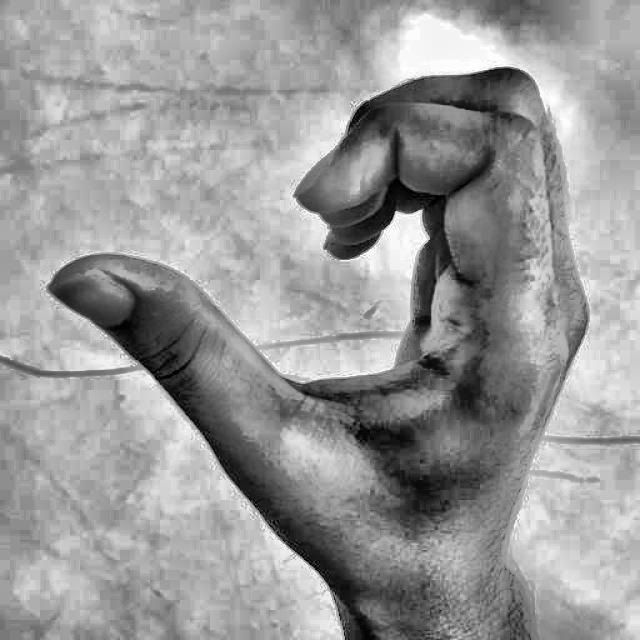Kha: (26, 22, 612, 614)
